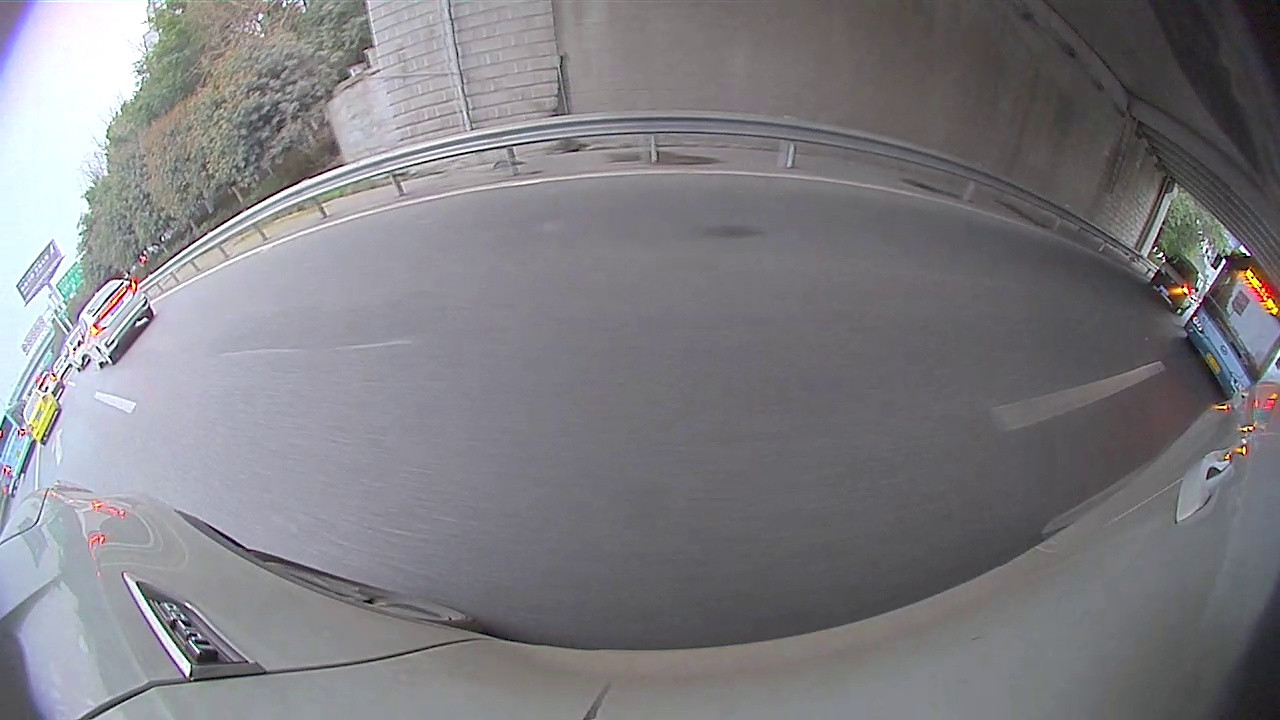bus: (1149, 273, 1210, 360)
car: (520, 42, 843, 178), (82, 164, 291, 319), (1019, 205, 1141, 335), (1189, 362, 1237, 432)
front: (781, 130, 831, 180), (142, 261, 183, 308)
rear: (566, 103, 624, 160), (1087, 296, 1116, 329), (95, 287, 122, 320)
